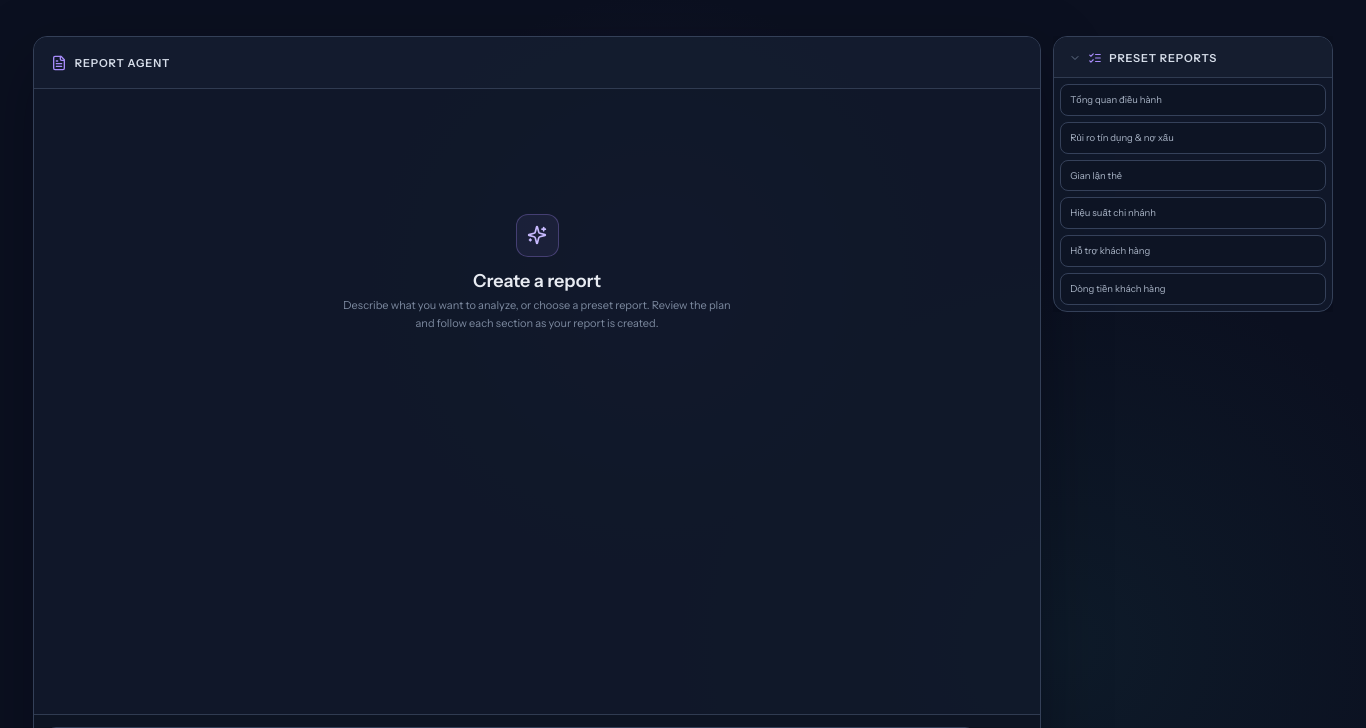
Test: ReportPanel › shows an explicit empty-result line for a zero-row section and a truncation note for a truncated one
The width and height of the screenshot is (1366, 728).
Click the button "Tổng quan điều hành". click: [1116, 100]
box: x1=1060 y1=84 x2=1326 y2=116
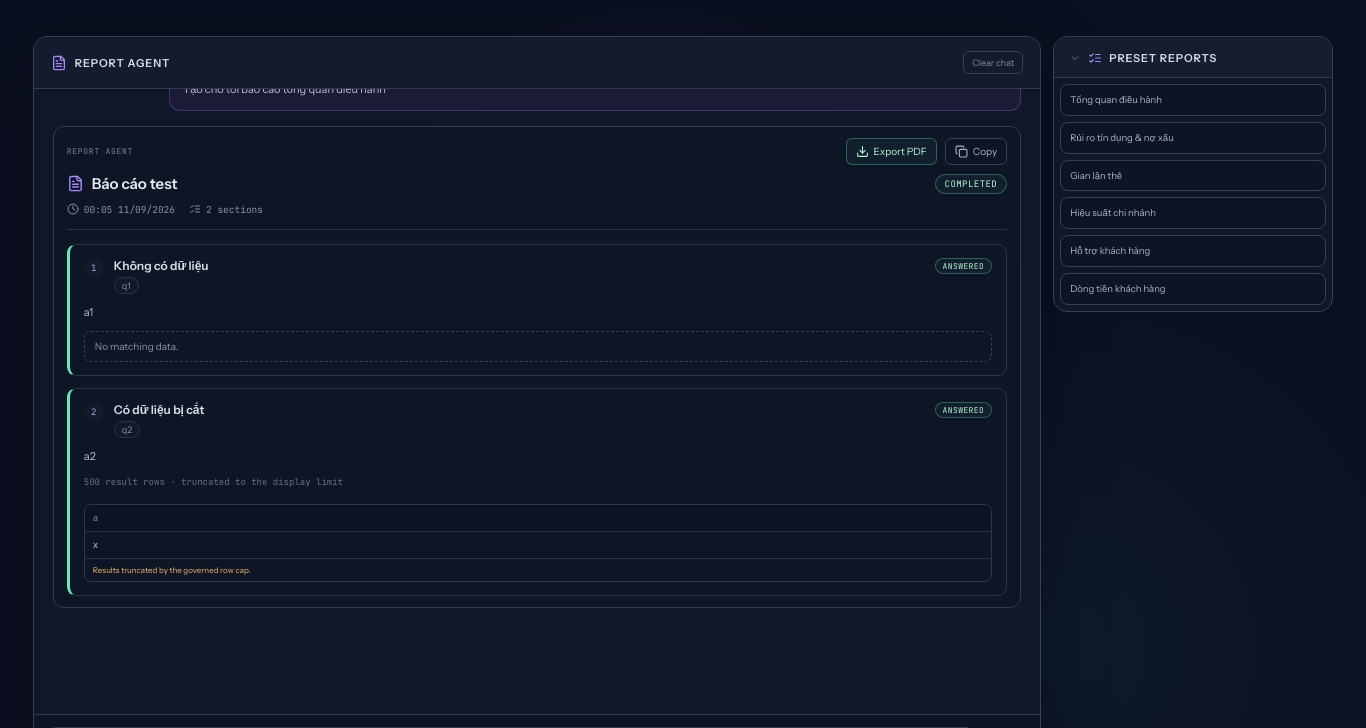
Expected: the text "No matching data." is shown, x1=84 y1=331 x2=992 y2=362
Expected: the text "500 result rows · truncated to the display limit" is shown, x1=84 y1=476 x2=343 y2=488
